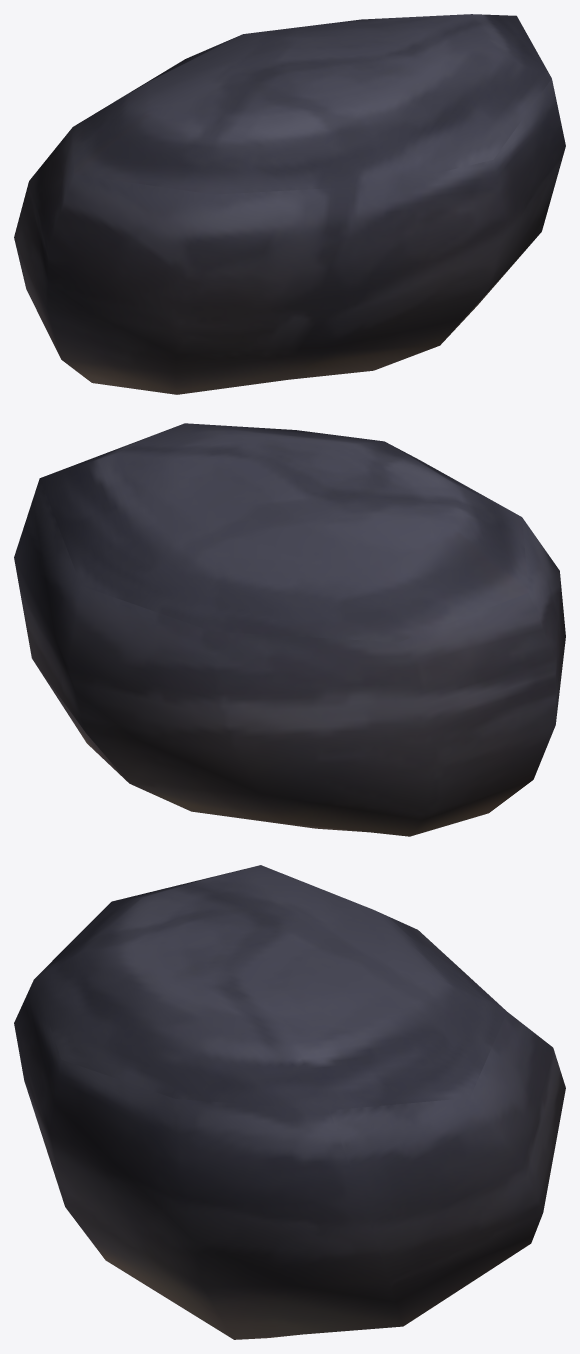
File: rock_02.fbx
3 renders of one model, top to bottom at view 1: azimuth 30°, elevation 25°; view 2: azimuth 150°, elevation 25°; view 3: azimuth 270°, elevation 25°, orthographic. The views are drawn at different scales.
Visible parts, largest first — view 1: rock_02; view 2: rock_02; view 3: rock_02.
Part boxes in pixels (x1,y1,x2,y2): rock_02: (14, 14, 565, 394); rock_02: (14, 423, 565, 836); rock_02: (14, 865, 565, 1339).
Size of the model in its own units: 163 by 93.37 by 133.
